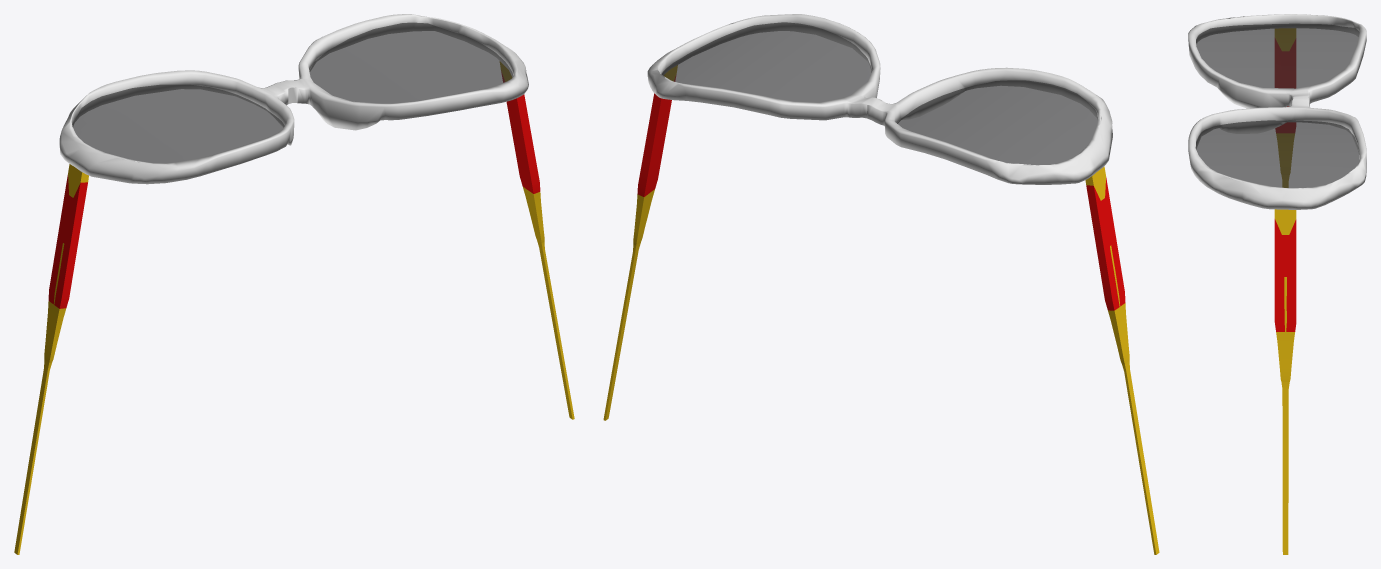
3 views of the same model, side by side, from view 1: azimuth 30°, elevation 25°; view 2: azimuth 150°, elevation 25°; view 3: azimuth 270°, elevation 25° (orthographic). The views are drawn at different scales.
Parts seen in each view (by area): view 1: Tube002, Plane001, Plane002, Box006, Box007, Box010, Box013; view 2: Tube002, Plane001, Plane002, Box006, Box007, Box010, Box013; view 3: Tube002, Plane002, Plane001, Box013, Box010, Box006, Box007, Box012, Box011.
Part boxes in pixels (<box>): Tube002: <box>59,14,528,184</box>; Plane001: <box>72,84,284,163</box>; Plane002: <box>309,22,513,103</box>; Box006: <box>54,164,88,268</box>; Box007: <box>44,260,73,362</box>; Box010: <box>515,149,544,242</box>; Box013: <box>500,62,534,157</box>; Tube002: <box>647,14,1112,184</box>; Plane001: <box>897,80,1097,165</box>; Plane002: <box>661,22,871,102</box>; Box006: <box>1085,166,1119,271</box>; Box007: <box>1100,262,1129,363</box>; Box010: <box>633,152,662,245</box>; Box013: <box>643,65,677,160</box>; Tube002: <box>1188,14,1366,209</box>; Plane002: <box>1195,120,1359,188</box>; Plane001: <box>1196,23,1359,88</box>; Box013: <box>1274,209,1296,295</box>; Box010: <box>1274,296,1296,381</box>; Box006: <box>1275,28,1295,88</box>; Box007: <box>1275,106,1295,174</box>; Box012: <box>1281,382,1289,468</box>; Box011: <box>1282,468,1288,554</box>.
Bounding box in the file's own units: 180 × 125 × 57.73.
